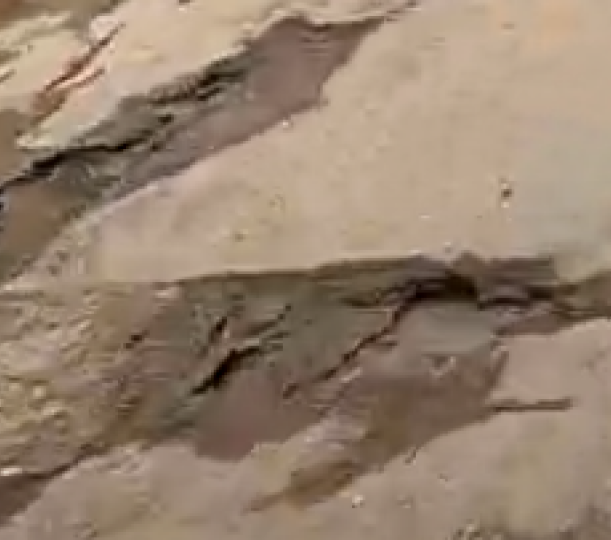Berlubang: (1, 251, 609, 524), (4, 27, 71, 251), (66, 103, 198, 213), (137, 72, 260, 167), (188, 49, 304, 138), (1, 1, 101, 93), (226, 41, 325, 121), (247, 24, 342, 92), (257, 10, 366, 63), (348, 5, 408, 35)
